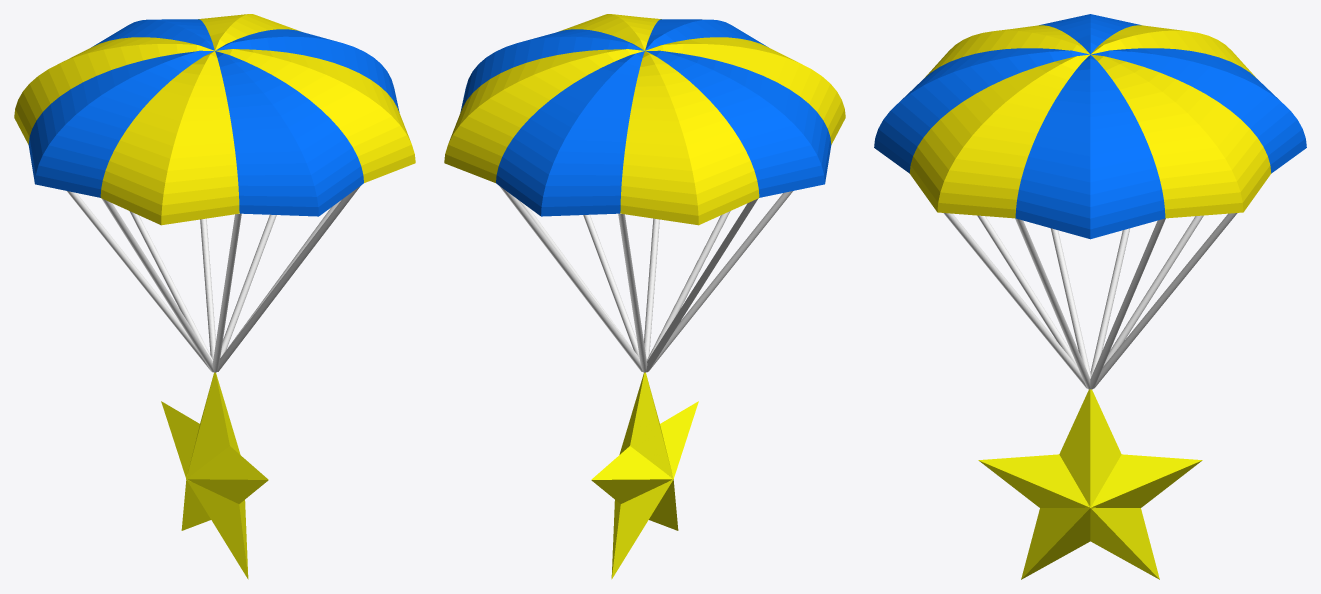
File: ParachuteStar.dae
3 renders of one model, left to right at view 1: azimuth 30°, elevation 25°; view 2: azimuth 150°, elevation 25°; view 3: azimuth 270°, elevation 25°, orthographic. The views are drawn at different scales.
Parts seen in each view (by area): view 1: Sphere; view 2: Sphere; view 3: Sphere.
Part boxes in pixels (left/top/right/bottom): Sphere: left=14, top=14, right=415, bottom=579; Sphere: left=444, top=14, right=845, bottom=579; Sphere: left=874, top=14, right=1306, bottom=579.
Bounding box in the file's own units: 25 × 25 × 33.74.
